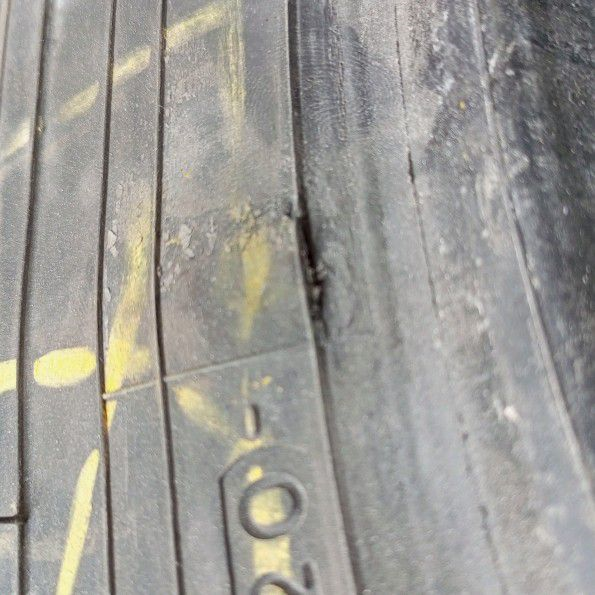cut: (287, 167, 331, 348)
